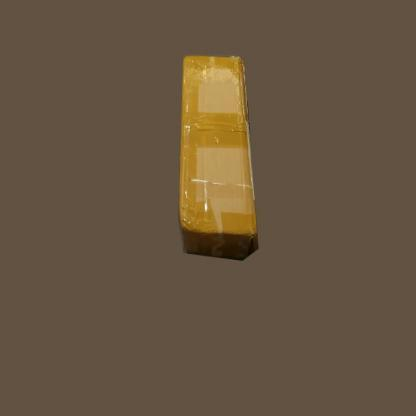package: (180, 57, 259, 254)
